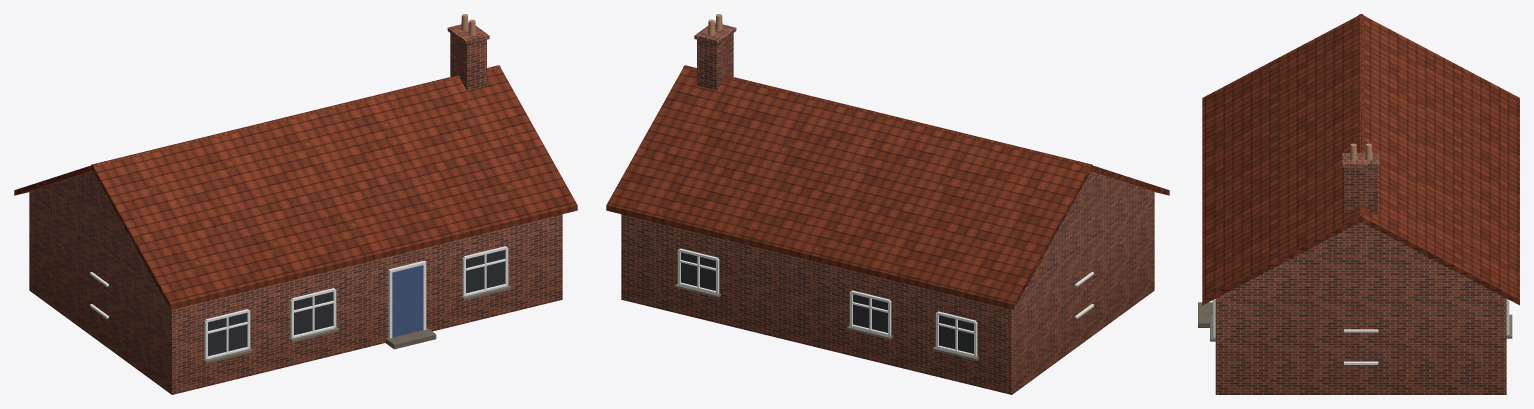
The model's file is prop_house_bungalow.glb.
3 views of the same model, side by side, from view 1: azimuth 30°, elevation 25°; view 2: azimuth 150°, elevation 25°; view 3: azimuth 270°, elevation 25° (orthographic).
Visible parts, largest first — view 1: Roof, Walls, Glass, Frames, Chimney, Door, Ridge, Sills; view 2: Roof, Walls, Glass, Frames, Chimney, Ridge, Sills; view 3: Roof, Walls, Chimney, Ridge, Frames, Sills.
Boxes of the visible parts, x1,y1,x2,y2 form: Roof: (14, 68, 577, 309); Walls: (29, 171, 562, 394); Glass: (208, 250, 504, 356); Frames: (90, 246, 508, 359); Chimney: (447, 22, 489, 90); Door: (392, 265, 422, 337); Ridge: (90, 65, 500, 170); Sills: (203, 285, 511, 363); Roof: (606, 68, 1169, 309); Walls: (621, 171, 1154, 394); Glass: (681, 252, 973, 353); Frames: (677, 248, 1093, 356); Chimney: (694, 22, 736, 90); Ridge: (683, 65, 1093, 170); Sills: (675, 283, 978, 360); Roof: (1202, 16, 1519, 305); Walls: (1215, 222, 1506, 394); Chimney: (1342, 153, 1380, 214); Ridge: (1358, 14, 1364, 221); Frames: (1212, 299, 1509, 364); Sills: (1198, 302, 1512, 341).
Bounding box in the file's own units: 12.5 × 6.89 × 8.41.
8 materials, 5 textured.
